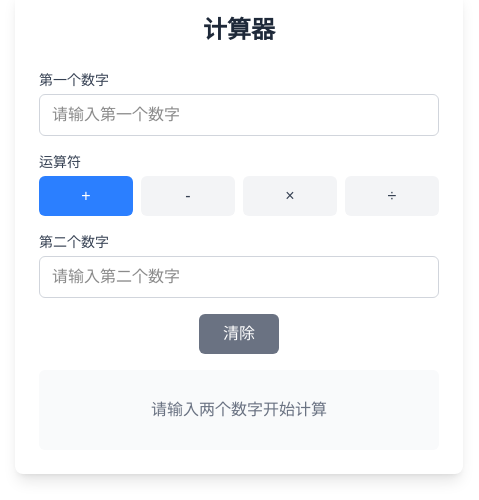
Test: Calculator Component › 应该显示实时加载状态
Type "5" into the number field with placeholder "请输入第一个数字" at (239, 115), box [39,94,439,136]
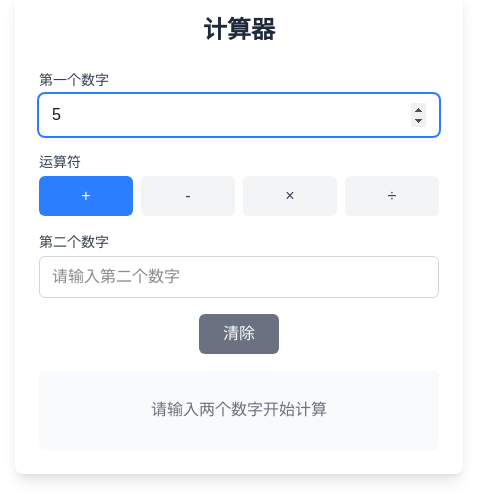
Type "3" into the number field with placeholder "请输入第二个数字" at (239, 277), box [39,256,439,298]
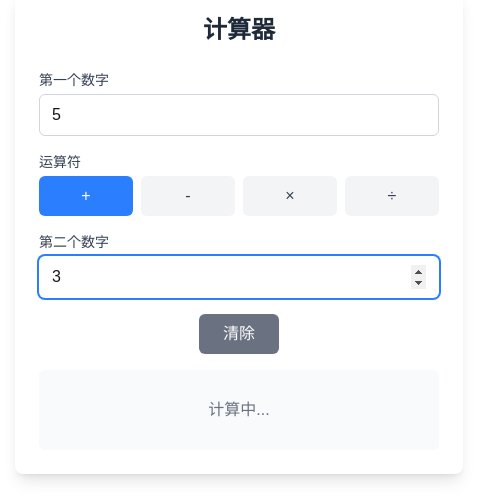
Expected: the text "计算中..." is shown, [208,398,270,422]
